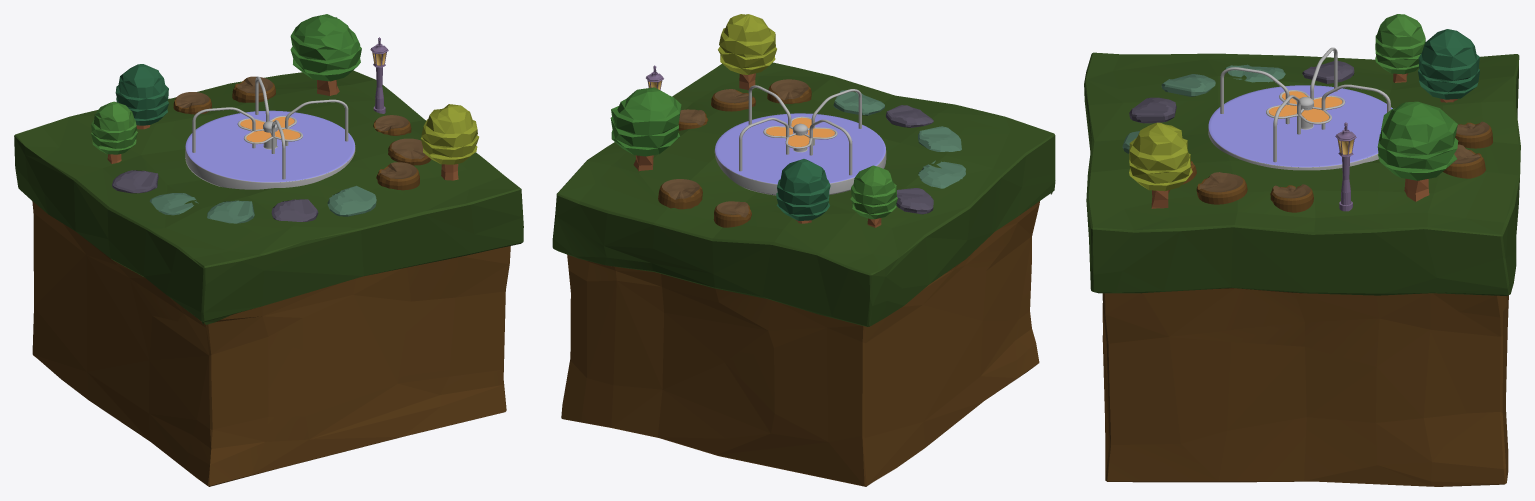
The model's file is tile_carousel.min.gltf.
3 views of the same model, side by side, from view 1: azimuth 30°, elevation 25°; view 2: azimuth 150°, elevation 25°; view 3: azimuth 270°, elevation 25° (orthographic). The views are drawn at different scales.
Visible parts, largest first — view 1: CENTERED.005, Merry_Go_Round_02_, Circle.009, Circle.048, Circle.011, Circle.010, Box001.026, trunk.002, Box001.022, Box001.024, Box001.025, trunk.008 (+5 smaller); view 2: CENTERED.005, Merry_Go_Round_02_, Circle.009, Circle.048, Circle.011, Circle.010, trunk.003, Box001.023, Box001.024, trunk.002, trunk.004, Box001.026 (+3 smaller); view 3: CENTERED.005, Merry_Go_Round_02_, Circle.009, Circle.048, Circle.011, Circle.010, trunk.008, trunk.009, Box001.025, Cylinder.021, trunk.003, Box001.024 (+3 smaller).
Boxes of the visible parts, left/top/right/bottom form: CENTERED.005: left=14, top=70, right=523, bottom=486; Merry_Go_Round_02_: left=185, top=76, right=355, bottom=189; Circle.009: left=290, top=14, right=361, bottom=95; Circle.048: left=420, top=104, right=478, bottom=180; Circle.011: left=115, top=64, right=168, bottom=129; Circle.010: left=91, top=101, right=137, bottom=163; Box001.026: left=327, top=185, right=376, bottom=216; trunk.002: left=376, top=162, right=419, bottom=190; Box001.022: left=112, top=170, right=158, bottom=193; Box001.024: left=207, top=200, right=254, bottom=223; Box001.025: left=271, top=199, right=318, bottom=221; trunk.008: left=388, top=138, right=431, bottom=165; CENTERED.005: left=552, top=62, right=1055, bottom=486; Merry_Go_Round_02_: left=714, top=85, right=886, bottom=195; Circle.009: left=610, top=87, right=681, bottom=171; Circle.048: left=718, top=14, right=776, bottom=90; Circle.011: left=776, top=159, right=830, bottom=223; Circle.010: left=850, top=165, right=897, bottom=227; trunk.003: left=658, top=179, right=702, bottom=209; Box001.023: left=918, top=160, right=965, bottom=188; Box001.024: left=918, top=126, right=961, bottom=151; trunk.002: left=767, top=79, right=811, bottom=103; trunk.004: left=713, top=201, right=751, bottom=227; Box001.026: left=833, top=90, right=884, bottom=115; CENTERED.005: left=1084, top=52, right=1520, bottom=486; Merry_Go_Round_02_: left=1208, top=47, right=1392, bottom=170; Circle.009: left=1377, top=101, right=1458, bottom=201; Circle.048: left=1129, top=122, right=1192, bottom=208; Circle.011: left=1418, top=29, right=1479, bottom=102; Circle.010: left=1375, top=14, right=1425, bottom=82; trunk.008: left=1196, top=172, right=1247, bottom=204; trunk.009: left=1270, top=184, right=1313, bottom=212; Box001.025: left=1129, top=97, right=1176, bottom=123; Cylinder.021: left=1335, top=122, right=1356, bottom=211; trunk.003: left=1443, top=144, right=1485, bottom=178; Box001.024: left=1161, top=74, right=1215, bottom=96.
Bounding box in the file's own units: 1.07 × 0.9779 × 1.09.
